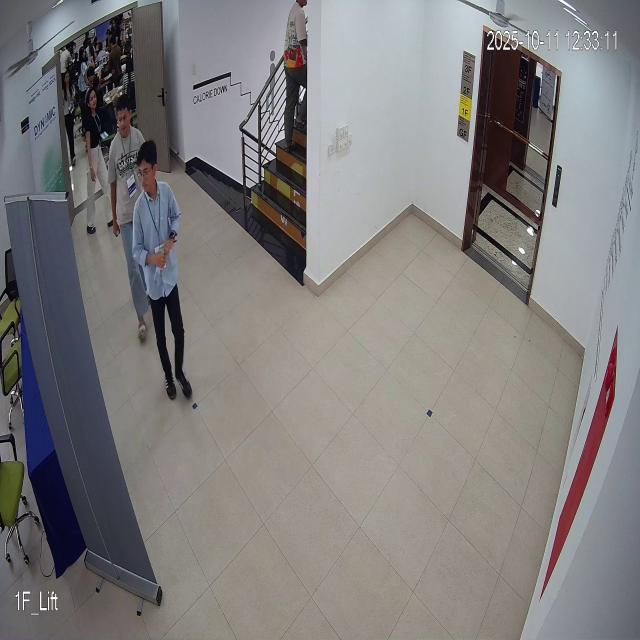face: (131, 136, 164, 195)
